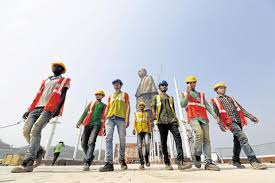helmet: (51, 60, 68, 73), (184, 73, 197, 83), (215, 82, 227, 89), (95, 88, 105, 96), (159, 80, 169, 87), (111, 78, 122, 83), (136, 101, 144, 105)
vest: (38, 77, 65, 116), (215, 99, 248, 125), (152, 95, 178, 122), (185, 92, 209, 118), (88, 102, 105, 135), (109, 94, 128, 119), (136, 113, 149, 132)
